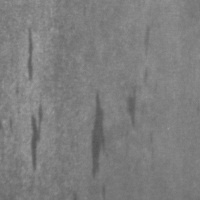inclusion: (84, 89, 115, 185), (123, 57, 158, 134), (24, 95, 50, 183), (20, 25, 46, 86), (139, 22, 158, 61)
